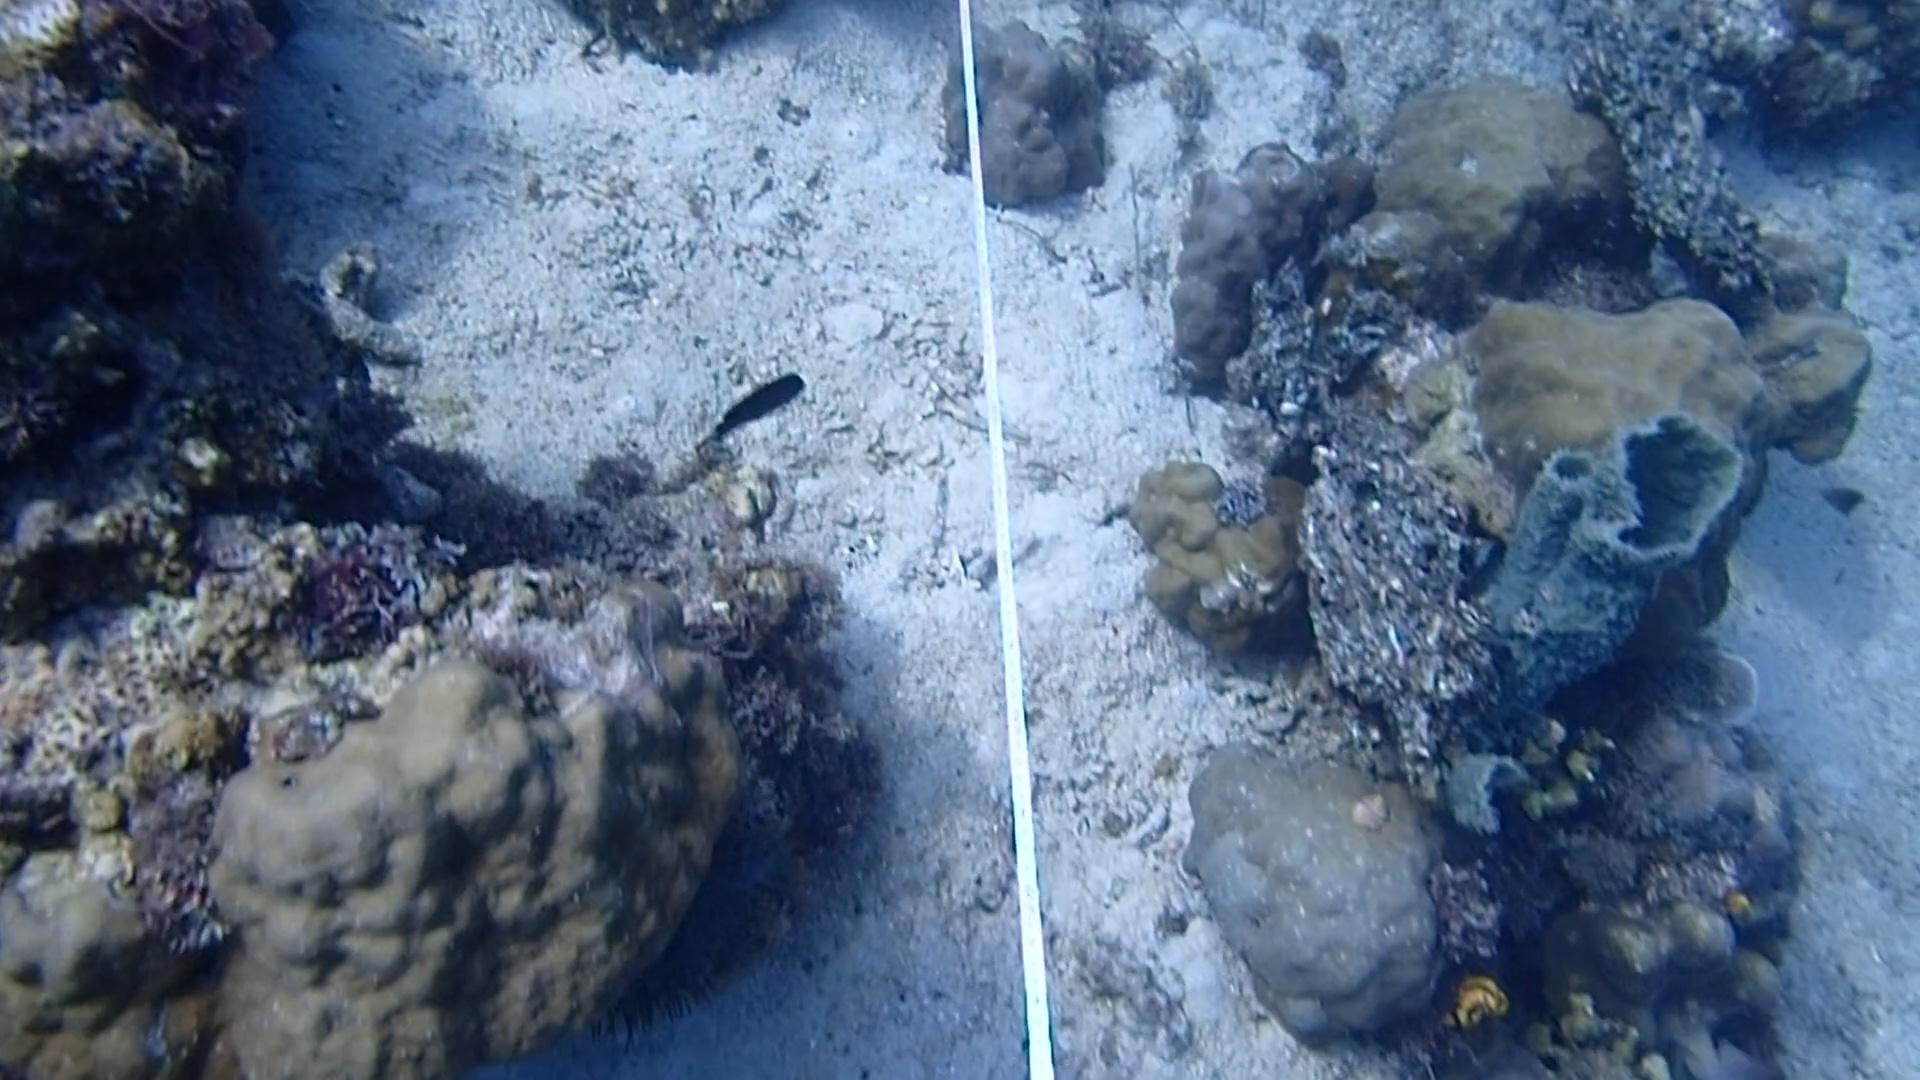Dark Fish: (692, 357, 803, 452)
